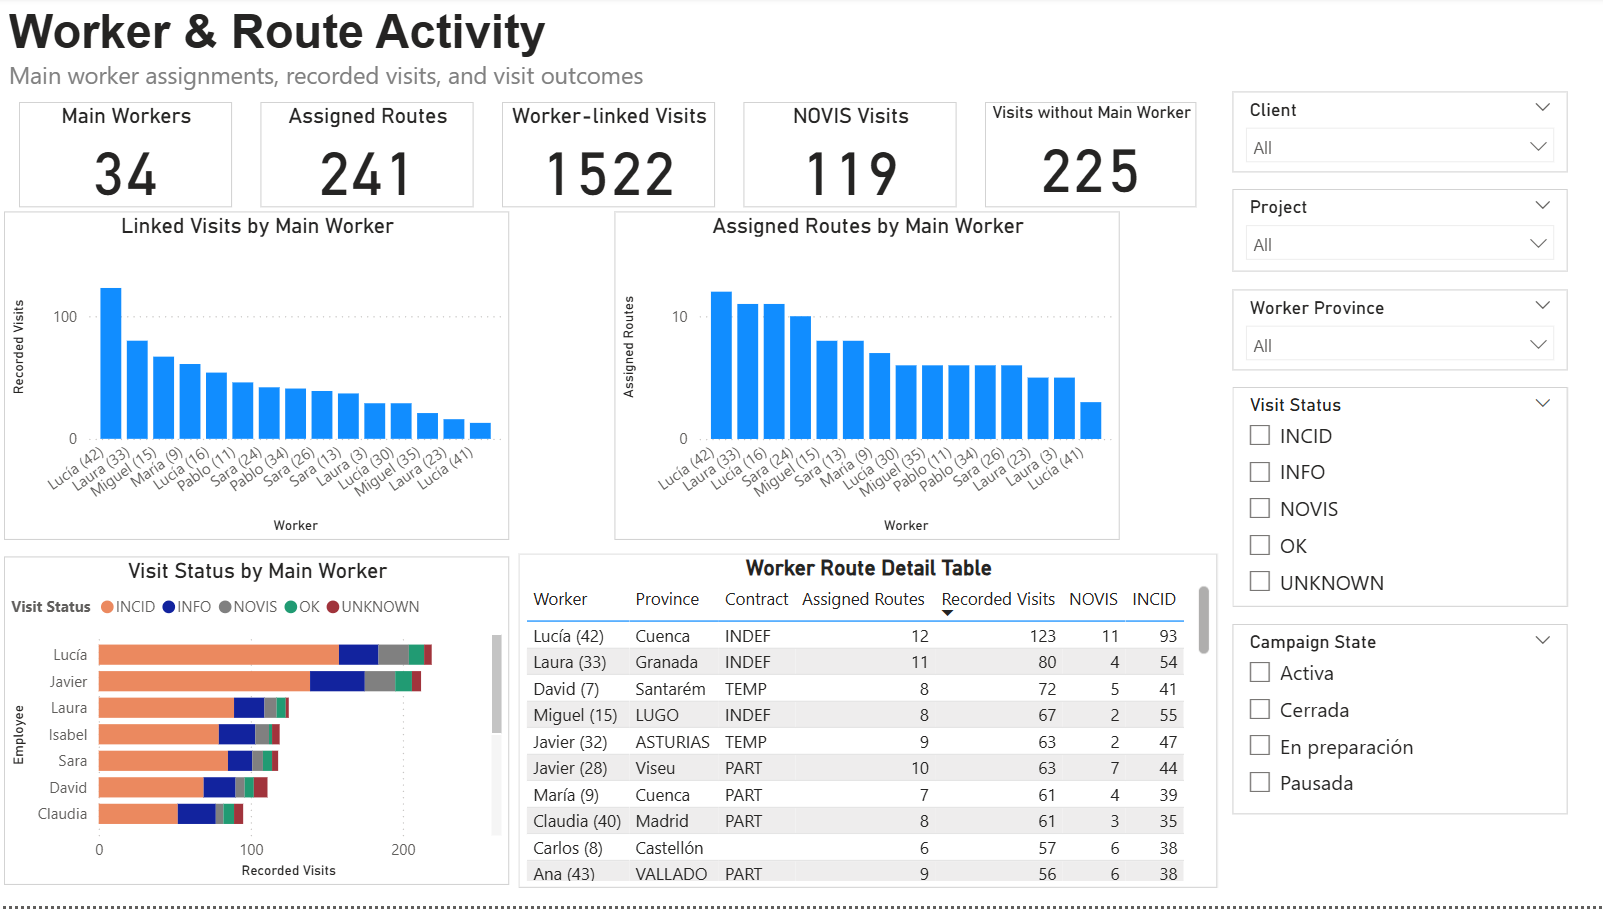

Layout of this report page (visuals, bound fields, positions):
{"tool":"powerbi","page":{"name":"Worker & Route Activity","canvas":[1280,720],"ordinal":2},"visuals":[{"type":"textbox","box":[10.7,0,621.2,83.1],"z":0},{"type":"slicer","fields":{"Values":["dim_clients.client_name"]},"box":[985.1,74.8,265.3,64],"z":1000},{"type":"slicer","fields":{"Values":["dim_projects.project_name"]},"box":[985.1,152.4,265.3,65.1],"z":2000},{"type":"slicer","fields":{"Values":["dim_campaigns.campaign_state"]},"box":[985.1,496.5,265.3,150.4],"z":3000},{"type":"slicer","fields":{"Values":["fct_visits.visit_status"]},"box":[985.1,308.7,265.3,174.1],"z":4000},{"type":"slicer","fields":{"Values":["dim_workers.employee_address_province"]},"box":[985.1,231.1,265.3,64],"z":5000},{"type":"card","title":"Main Workers","fields":{"Values":["_Measures.Main Workers"]},"box":[23.8,83.1,168.7,83.1],"z":6000},{"type":"card","title":"Assigned Routes","fields":{"Values":["_Measures.Assigned Routes"]},"box":[215,83.1,168.7,83.1],"z":7000},{"type":"card","title":"Worker-linked Visits","fields":{"Values":["_Measures.Recorded Visits by Main Worker"]},"box":[406.2,83.1,168.7,83.1],"z":8000},{"type":"card","title":"NOVIS Visits","fields":{"Values":["_Measures.NOVIS Visits"]},"box":[597.4,83.1,168.7,83.1],"z":9000},{"type":"card","title":"Visits without Main Worker","fields":{"Values":["_Measures.Visits without Main Worker"]},"box":[788.7,83.1,167.5,83.1],"z":10000},{"type":"columnChart","title":"Linked Visits by Main Worker","fields":{"Category":["dim_workers.worker_label"],"Y":["_Measures.Recorded Visits by Main Worker"]},"box":[11.9,169.9,400,260],"z":11000},{"type":"columnChart","title":"Assigned Routes by Main Worker","fields":{"Category":["dim_workers.worker_label"],"Y":["_Measures.Assigned Routes by Main Worker"]},"box":[495.3,169.9,400,260.1],"z":12000},{"type":"barChart","title":"Visit Status by Main Worker","fields":{"Category":["dim_workers.employee_first_name"],"Series":["fct_visits.visit_status"],"Y":["_Measures.Recorded Visits by Main Worker"]},"box":[11.9,443,400,260],"z":13000},{"type":"tableEx","title":"Worker Route Detail Table","fields":{"Values":["dim_workers.worker_label","dim_workers.employee_address_province","dim_workers.employee_contract_type","_Measures.Assigned Routes by Main Worker","_Measures.Recorded Visits by Main Worker","_Measures.NOVIS Visits by Main Worker","_Measures.INCID Visits by Main Worker"]},"box":[419.3,440.7,553.5,264.9],"z":14000}]}

Visuals, with their boxes in screenshot pixels (x1, y1, x2, y2), scaled from the page's 1280x720 canvas onto the 1603x912 screenshot:
textbox: [left=13, top=0, right=791, bottom=105]
slicer - dim_clients.client_name: [left=1234, top=95, right=1566, bottom=176]
slicer - dim_projects.project_name: [left=1234, top=193, right=1566, bottom=276]
slicer - dim_campaigns.campaign_state: [left=1234, top=629, right=1566, bottom=819]
slicer - fct_visits.visit_status: [left=1234, top=391, right=1566, bottom=612]
slicer - dim_workers.employee_address_province: [left=1234, top=293, right=1566, bottom=374]
"Main Workers" card: [left=30, top=105, right=241, bottom=211]
"Assigned Routes" card: [left=269, top=105, right=481, bottom=211]
"Worker-linked Visits" card: [left=509, top=105, right=720, bottom=211]
"NOVIS Visits" card: [left=748, top=105, right=959, bottom=211]
"Visits without Main Worker" card: [left=988, top=105, right=1197, bottom=211]
"Linked Visits by Main Worker" columnChart: [left=15, top=215, right=516, bottom=545]
"Assigned Routes by Main Worker" columnChart: [left=620, top=215, right=1121, bottom=545]
"Visit Status by Main Worker" barChart: [left=15, top=561, right=516, bottom=890]
"Worker Route Detail Table" tableEx: [left=525, top=558, right=1218, bottom=894]
